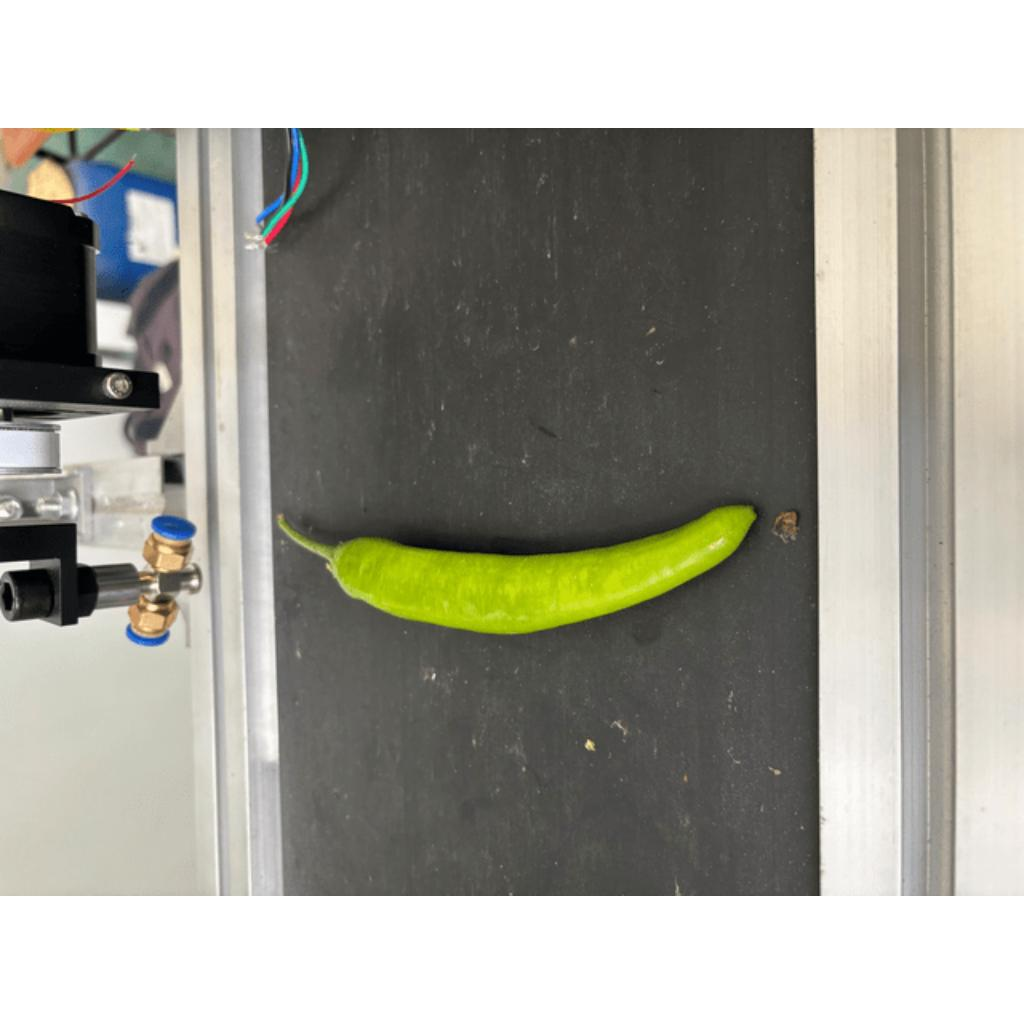chili: (327, 503, 758, 639)
